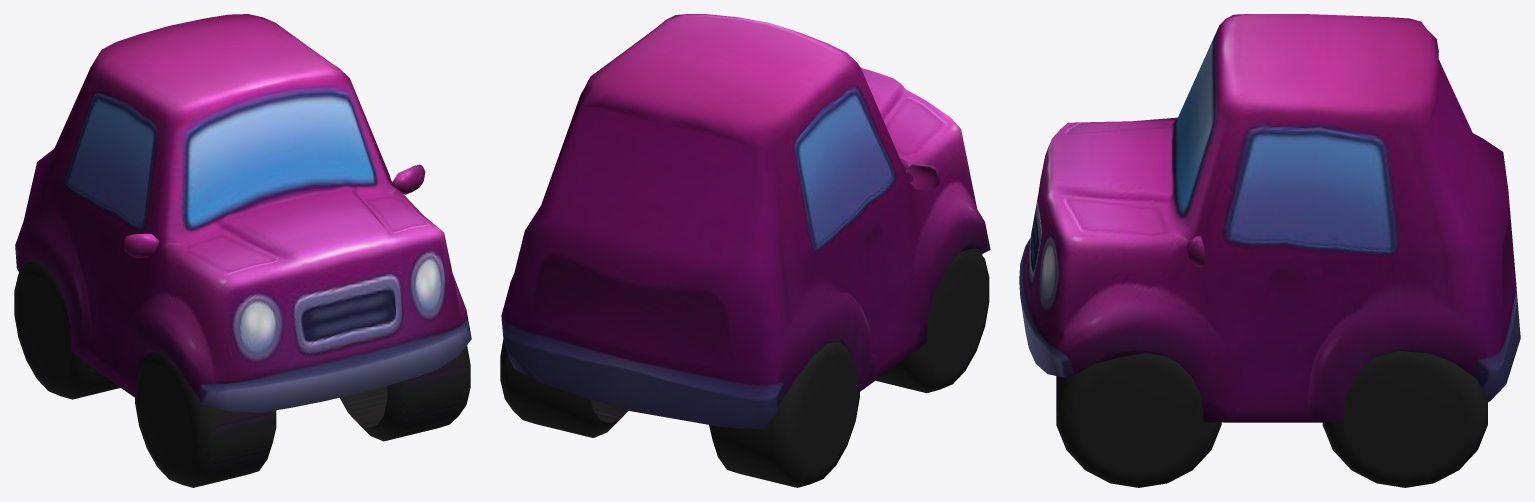
File: Man.fbx
3 renders of one model, left to right at view 1: azimuth 30°, elevation 25°; view 2: azimuth 150°, elevation 25°; view 3: azimuth 270°, elevation 25°, orthographic. The views are drawn at different scales.
Visible parts, largest first — view 1: Man, ManBanh; view 2: Man, ManBanh; view 3: Man, ManBanh.
Boxes of the visible parts, <box> form: Man: <box>15,14,471,412</box>; ManBanh: <box>14,261,470,487</box>; Man: <box>501,14,990,429</box>; ManBanh: <box>500,248,989,487</box>; Man: <box>1019,14,1520,422</box>; ManBanh: <box>1056,350,1487,487</box>.
Size of the model in its own units: 1.77 by 2.33 by 1.94.
